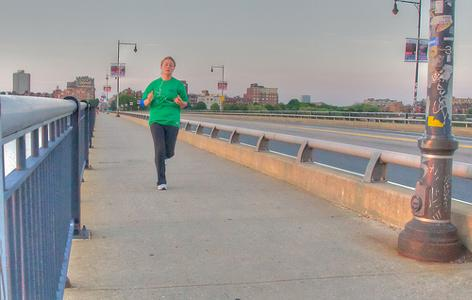person: (139, 56, 192, 192)
